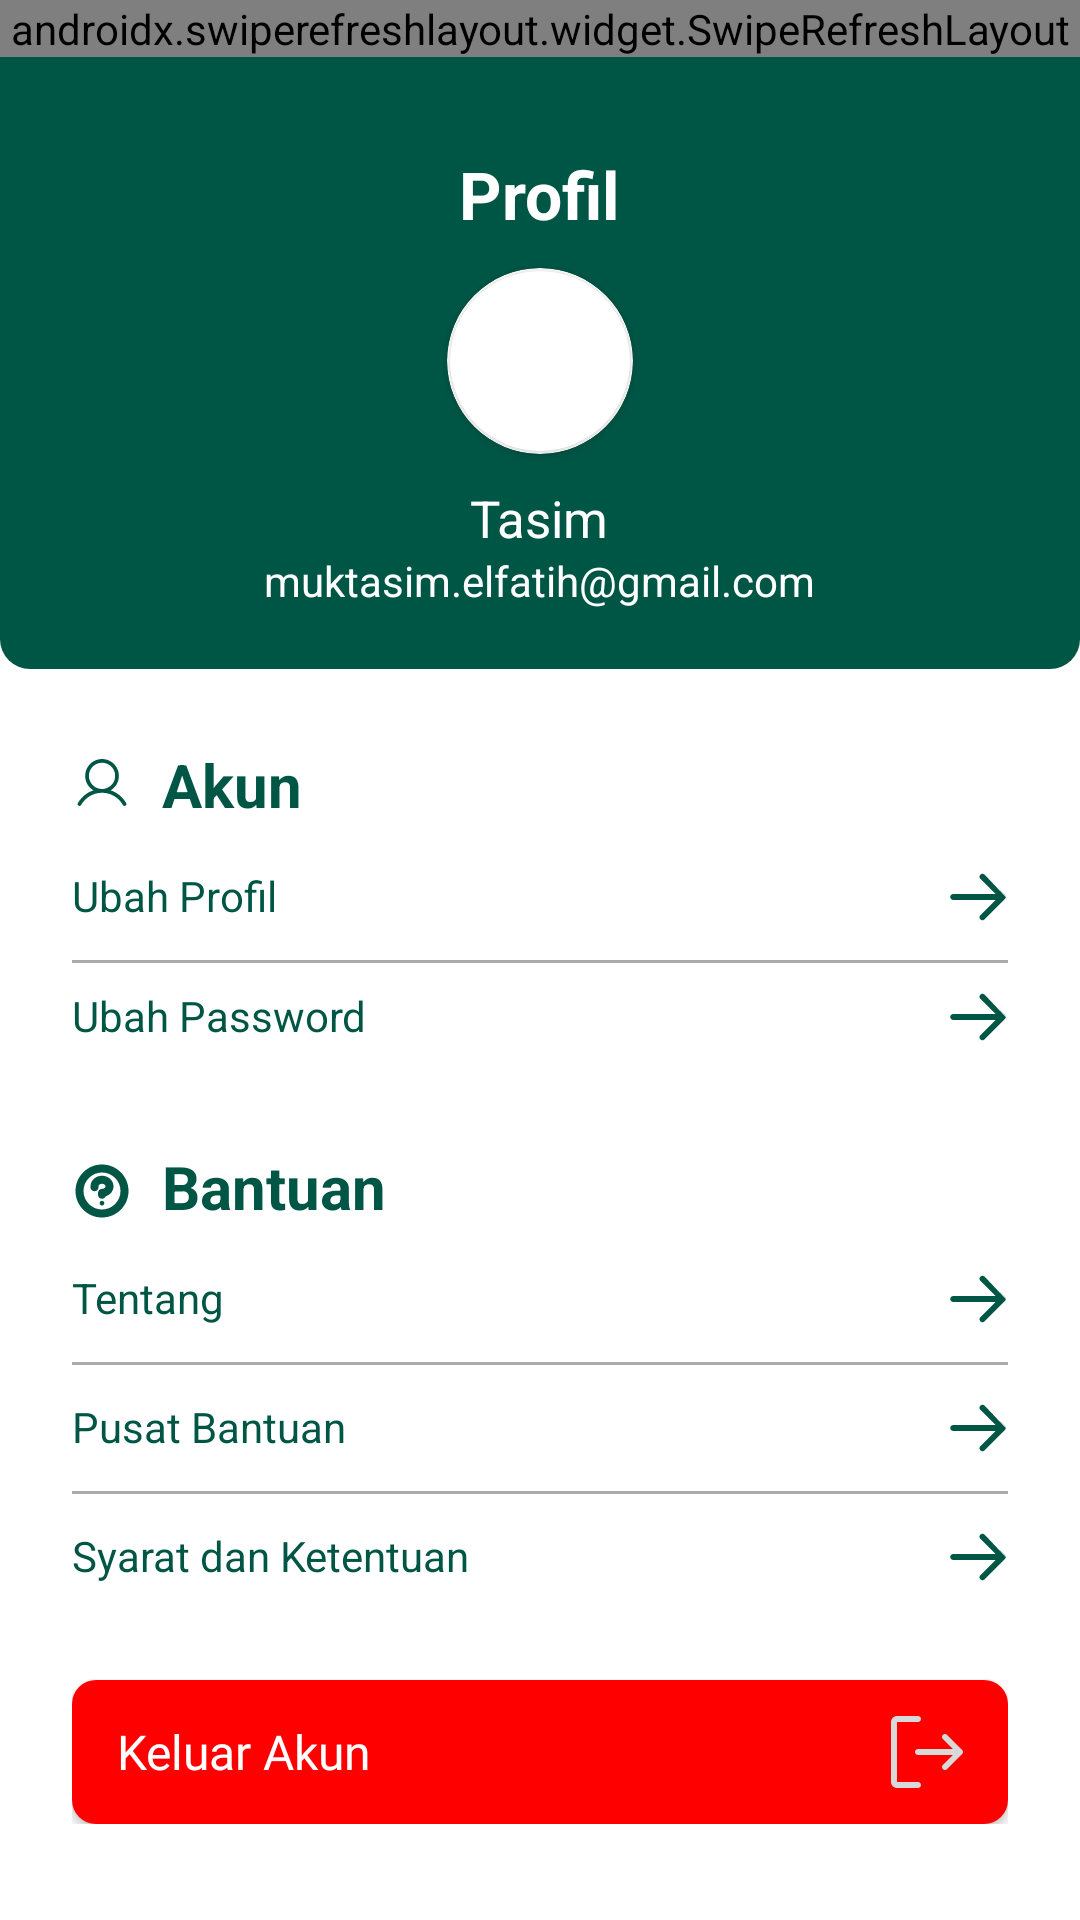

Icon click points for this 1080x1920 phone screenshot, format point (x, y):
profile: point (102, 782)
question: point (102, 1191)
right arrow: point (978, 897), point (978, 1017), point (978, 1299), point (978, 1428), point (978, 1557)
